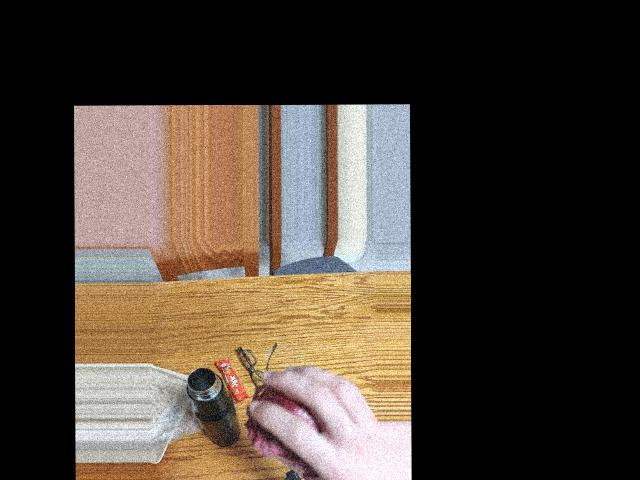onion: (262, 380, 330, 472)
